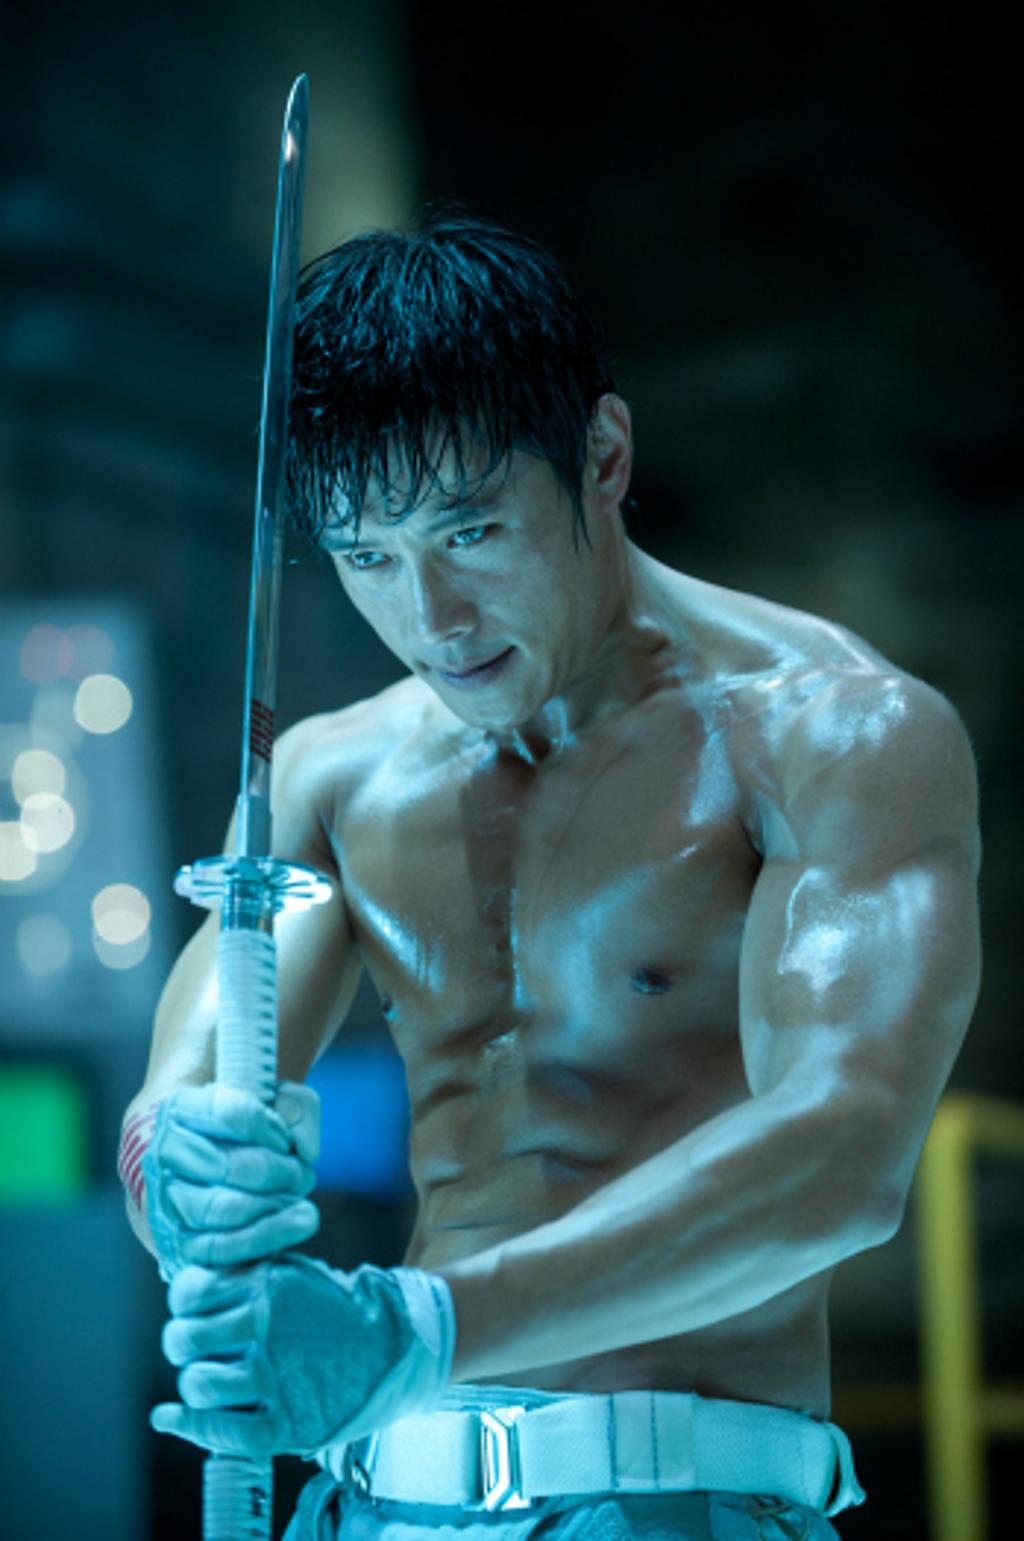face: (322, 407, 572, 735)
